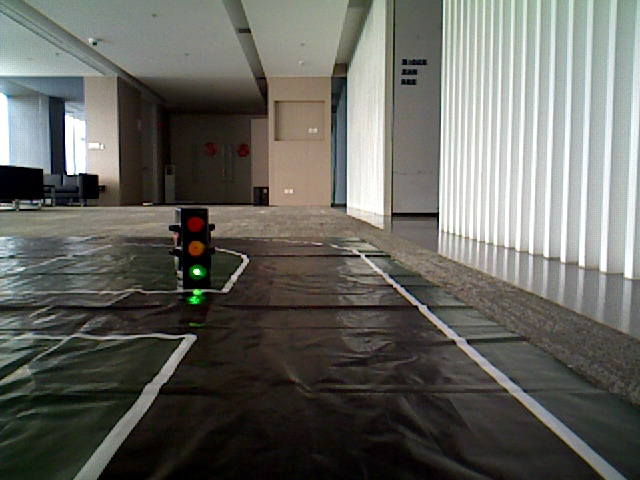green: (181, 212, 207, 280)
